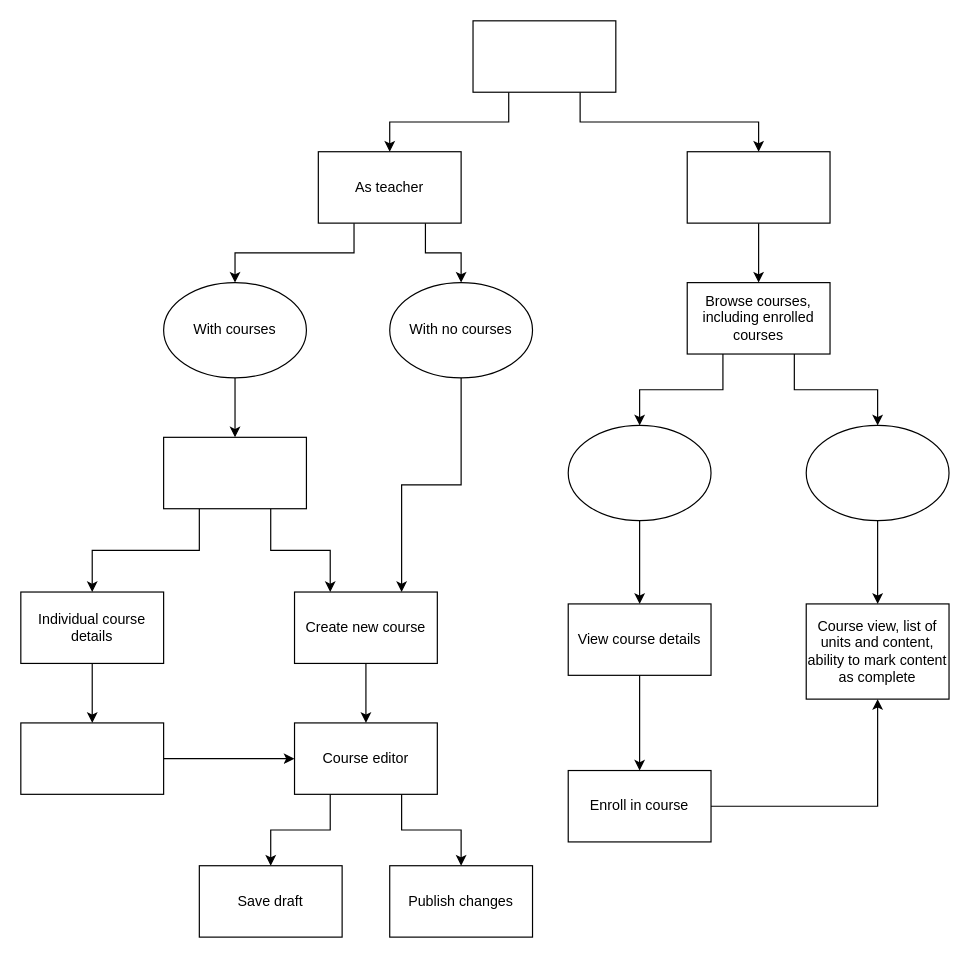
Image size: 970x958. Some labels were removed from this diagram. Each missing label, with the centre of its shape:
"As student" goes at point (758, 187).
"Edit course" goes at point (92, 758).
"Enrolled course" goes at point (877, 472).
"Non-enrolled course" goes at point (639, 472).
"Teacher dashboard" goes at point (234, 472).
"User login/register" goes at point (544, 56).
